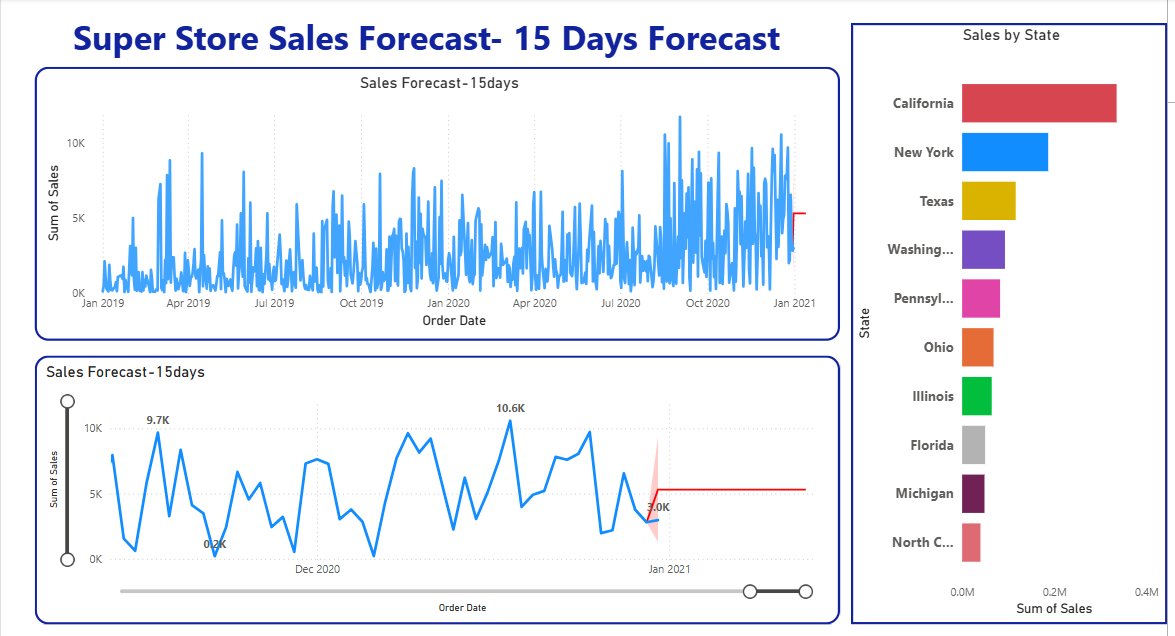

What the dashboard file says about the page in this screenshot:
{"tool":"powerbi","page":{"name":"Page 2","canvas":[1280,720],"ordinal":1},"visuals":[{"type":"lineChart","title":"Sales Forecast-15days","fields":{"Y":["Sum(Sheet1.Sales)"],"Category":["Sheet1.Order Date"]},"box":[37,75.5,883.7,300.5],"z":0},{"type":"lineChart","title":"Sales Forecast-15days","fields":{"Y":["Sum(Sheet1.Sales)"],"Category":["Sheet1.Order Date"]},"box":[37,392.5,883.7,295],"z":1000},{"type":"clusteredBarChart","title":" Sales by State","fields":{"Y":["Sum(Sheet1.Sales)"],"Category":["Sheet1.State"]},"box":[933.1,27.4,347.2,660],"z":2000},{"type":"textbox","box":[13.7,12.3,907,63.1],"z":2001}]}

Visuals, with their boxes in screenshot pixels (x1, y1, x2, y2):
"Sales Forecast-15days" lineChart: [left=37, top=68, right=835, bottom=340]
"Sales Forecast-15days" lineChart: [left=37, top=355, right=835, bottom=621]
" Sales by State" clusteredBarChart: [left=846, top=25, right=1160, bottom=621]
textbox: [left=15, top=11, right=835, bottom=68]
